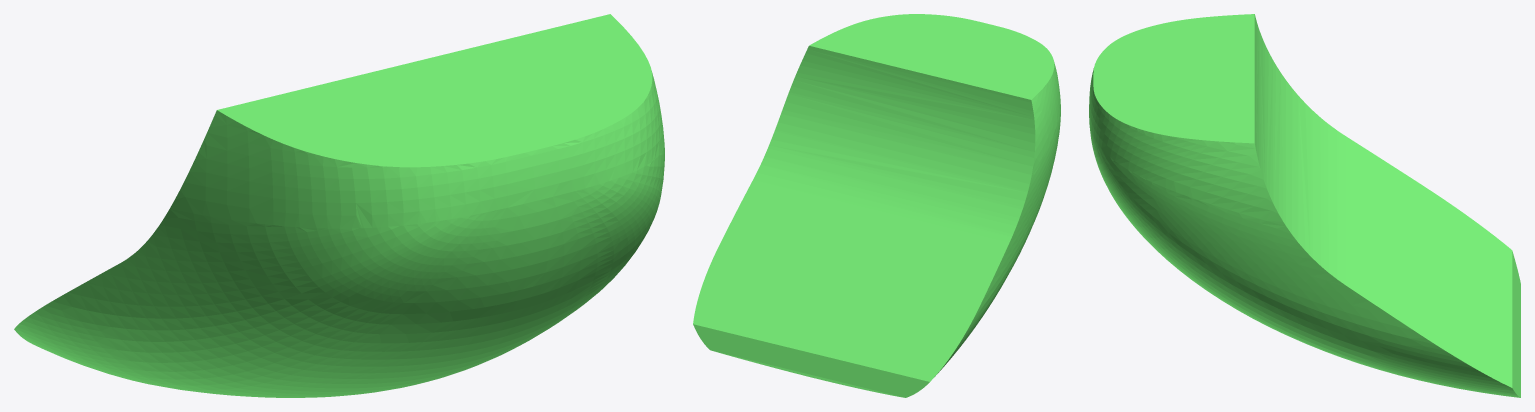
Rendered from left_thumb_elastomer_render.glb.
3 renders of one model, left to right at view 1: azimuth 30°, elevation 25°; view 2: azimuth 150°, elevation 25°; view 3: azimuth 270°, elevation 25°, orthographic. The views are drawn at different scales.
Parts seen in each view (by area): view 1: world; view 2: world; view 3: world.
Boxes of the visible parts, left/top/right/bottom form: world: left=14, top=14, right=664, bottom=397; world: left=693, top=14, right=1060, bottom=397; world: left=1089, top=14, right=1520, bottom=397.
Bounding box in the file's own units: 0.0163 × 0.0141 × 0.0197.
